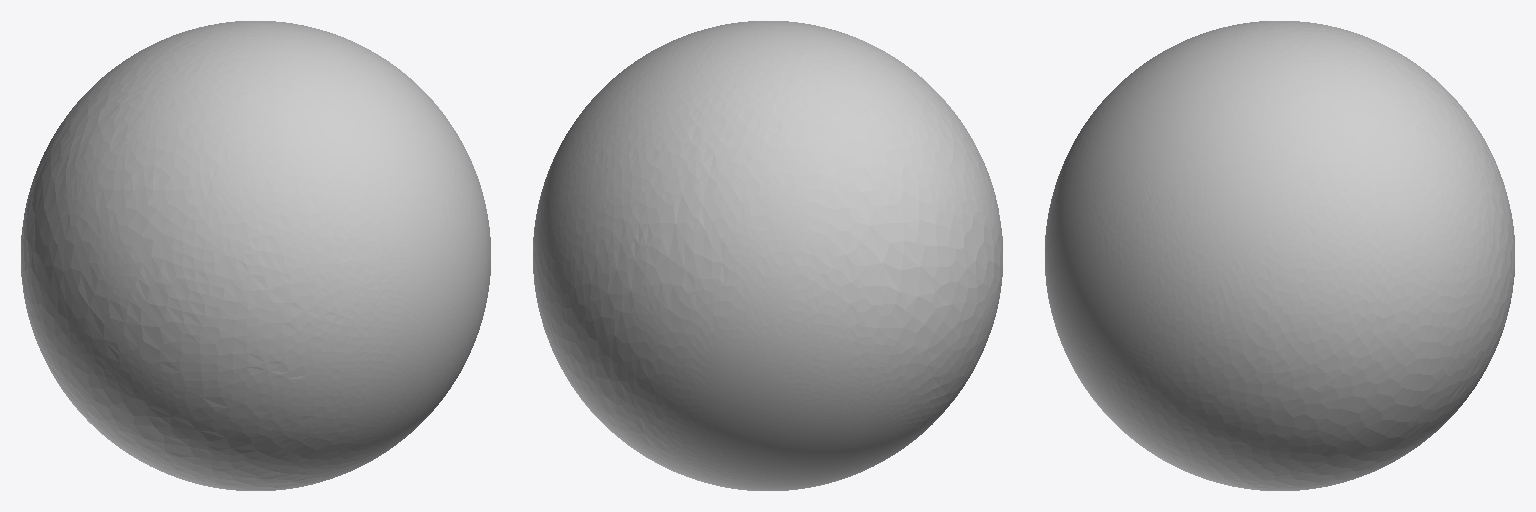
The model's file is sphere_retest.obj.
The picture shows the model from 3 angles: view 1: azimuth 30°, elevation 25°; view 2: azimuth 150°, elevation 25°; view 3: azimuth 270°, elevation 25°; orthographic projection.
Size of the model in its own units: 2 by 2 by 2.